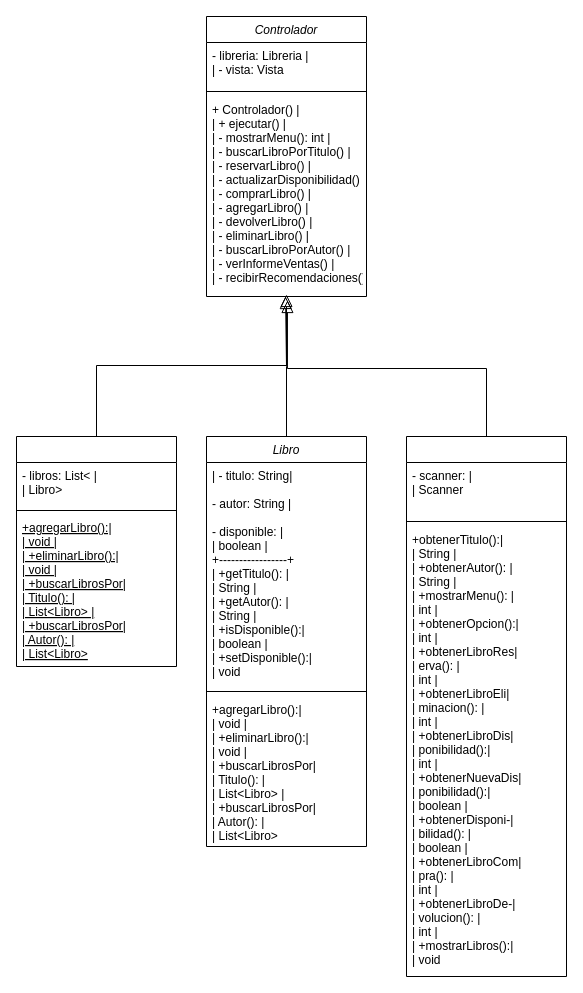
This 583x993 diagram has some shape labels left out. Each missing label, with the box of its shape:
Libreria: (16, 436, 176, 666)
Vista: (406, 436, 566, 976)
